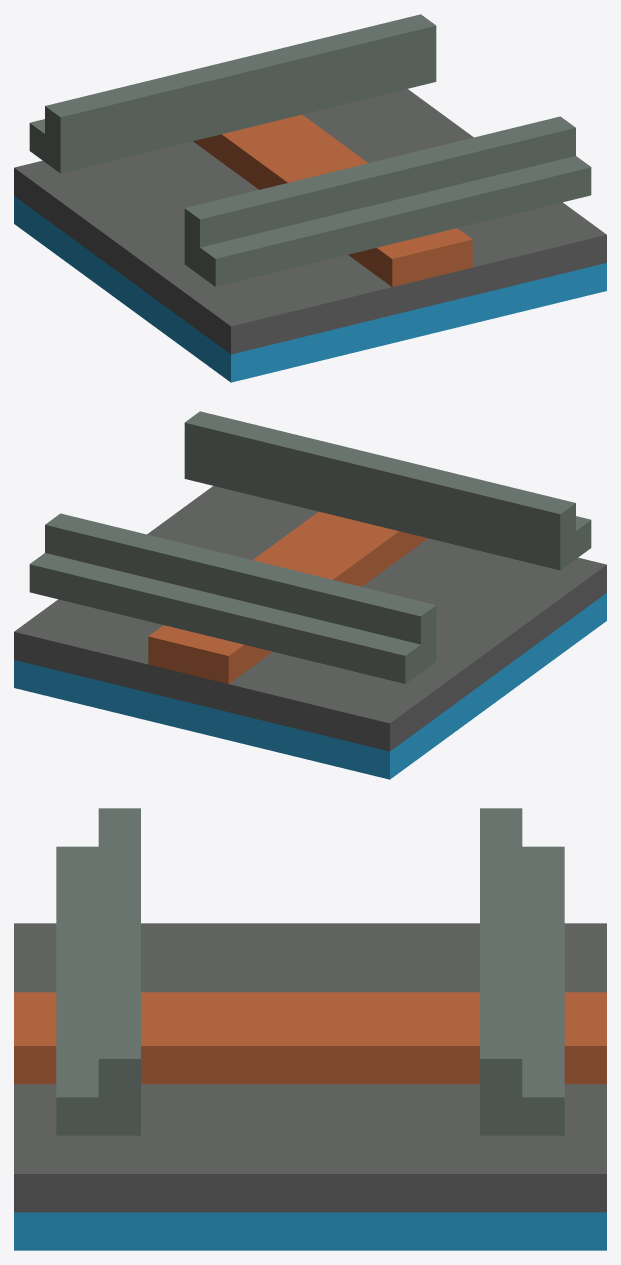
Rendered from rail_h3.obj.
3 renders of one model, top to bottom at view 1: azimuth 30°, elevation 25°; view 2: azimuth 150°, elevation 25°; view 3: azimuth 270°, elevation 25°, orthographic. The views are drawn at different scales.
Bounding box in the file's own units: 1.4 × 0.5 × 1.4.
Materials: 1 (1 with a texture image).
